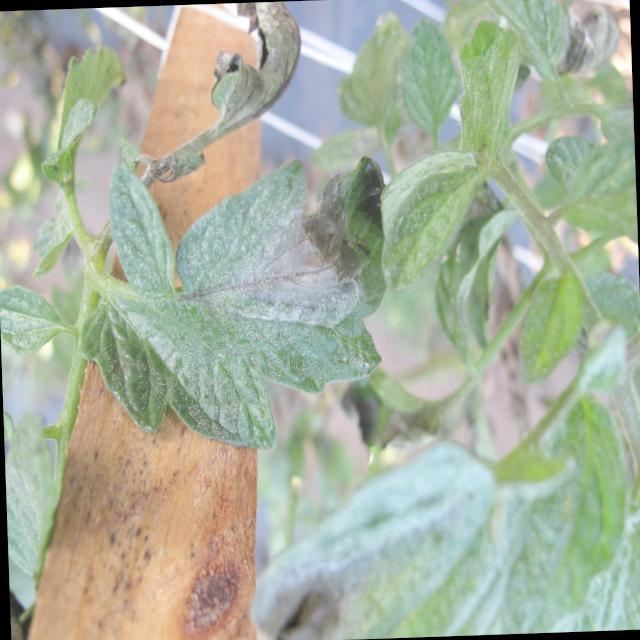Tomato late blight leaf: (50, 115, 435, 462)
